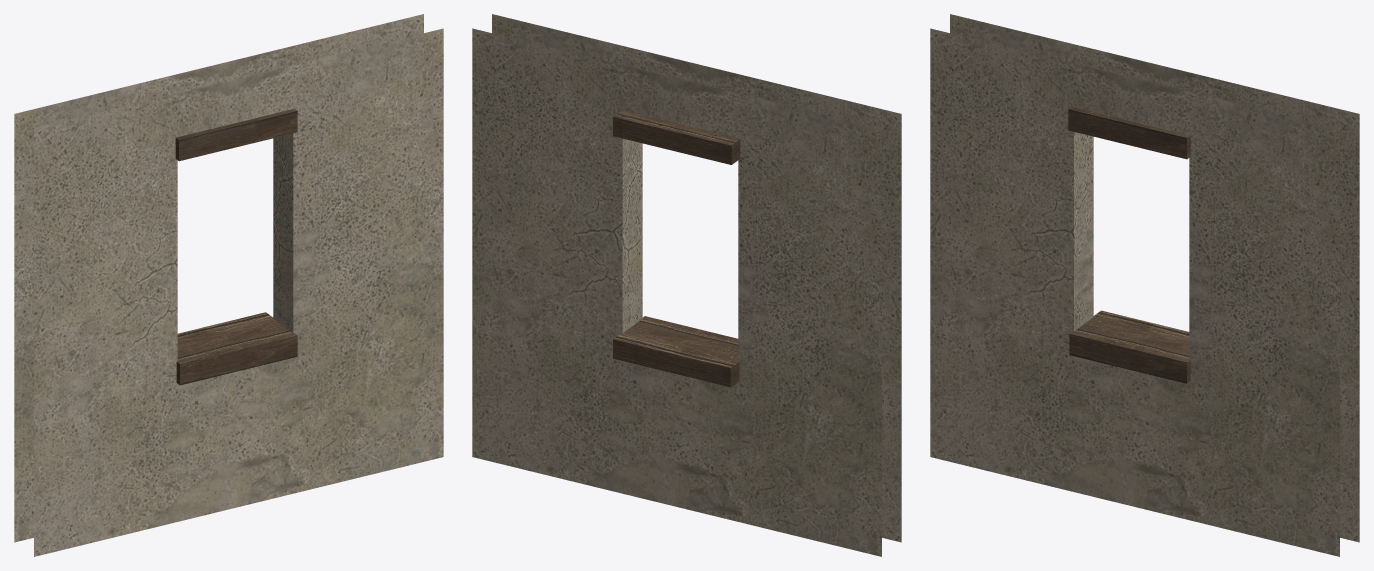
File: ARC1010295.fbx
3 renders of one model, left to right at view 1: azimuth 30°, elevation 25°; view 2: azimuth 150°, elevation 25°; view 3: azimuth 330°, elevation 25°, orthographic.
Parts seen in each view (by area): view 1: smARC1010295; view 2: smARC1010295; view 3: smARC1010295.
Part boxes in pixels (<box>): smARC1010295: <box>14,14,443,556</box>; smARC1010295: <box>472,14,901,556</box>; smARC1010295: <box>930,14,1359,556</box>.
Bounding box in the file's own units: 268 × 268 × 36.12.
Materials: 1 (1 with a texture image).
